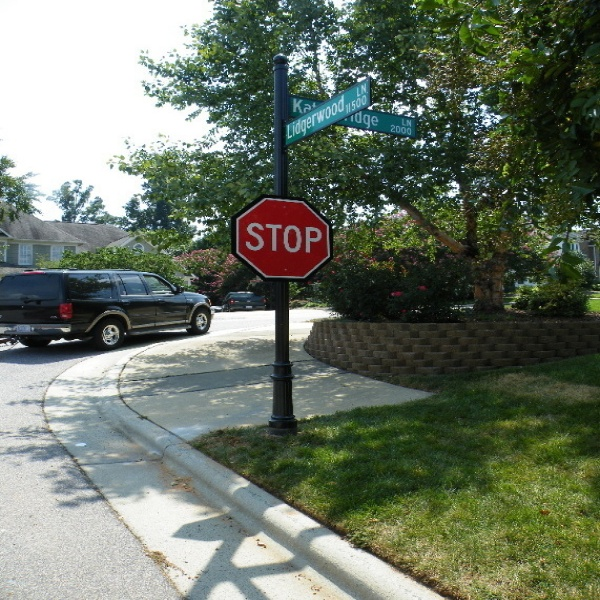stop: (232, 197, 336, 277)
